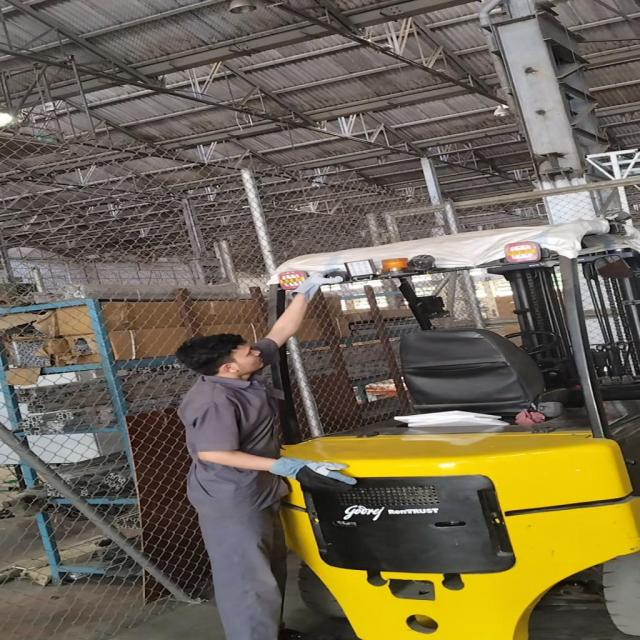Gloves-Detection: (265, 456, 353, 498), (287, 262, 349, 306)
